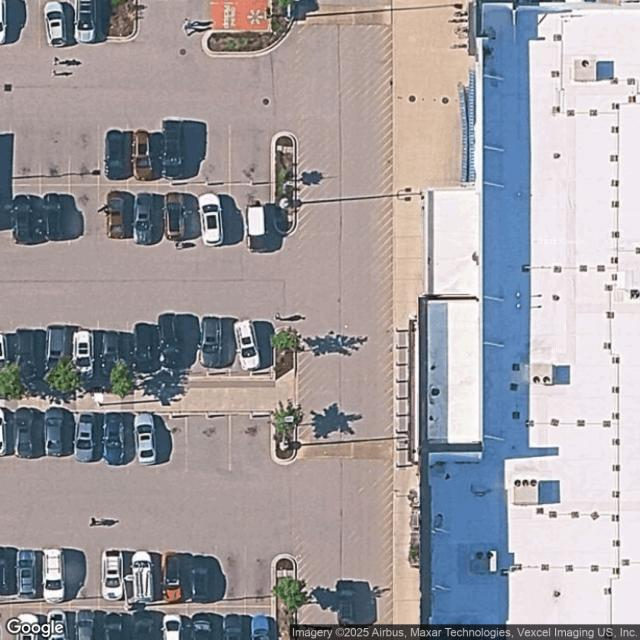car: (102, 412, 135, 465), (43, 407, 75, 458), (13, 407, 45, 458), (103, 129, 134, 179), (157, 313, 184, 368), (44, 1, 76, 47), (76, 1, 110, 44), (74, 412, 102, 462), (200, 316, 226, 369), (10, 195, 37, 246), (198, 193, 224, 245), (13, 328, 39, 380), (129, 551, 156, 601), (132, 192, 156, 248), (134, 412, 158, 466), (42, 548, 66, 602), (234, 320, 260, 369), (188, 554, 213, 604), (0, 0, 27, 46), (101, 549, 125, 600), (132, 130, 156, 181), (246, 203, 270, 254), (15, 548, 39, 598), (162, 552, 186, 602), (132, 322, 156, 372), (158, 131, 182, 181), (164, 192, 187, 240), (108, 191, 130, 240), (45, 330, 68, 374), (42, 195, 63, 242), (0, 545, 19, 596), (97, 330, 122, 367), (72, 330, 92, 372), (14, 612, 42, 640), (224, 613, 252, 640), (0, 406, 15, 456), (74, 609, 98, 640), (46, 609, 68, 640), (189, 616, 217, 640), (102, 611, 125, 640), (251, 614, 276, 639), (161, 614, 182, 639)
lot_boundary: (1, 56, 390, 640)
